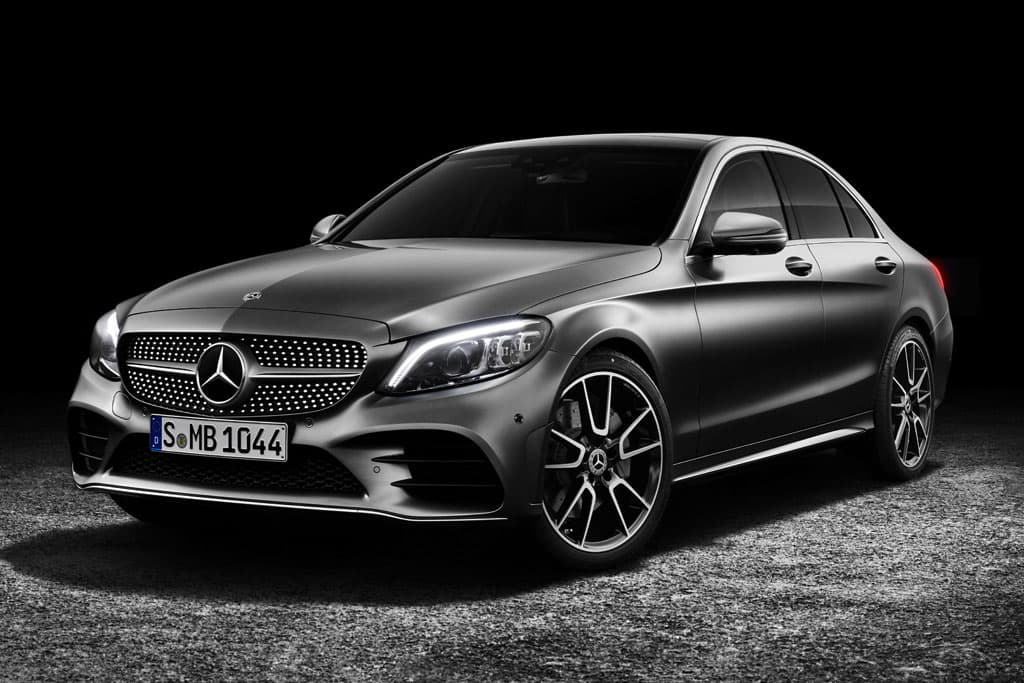cclass: (52, 110, 965, 570)
